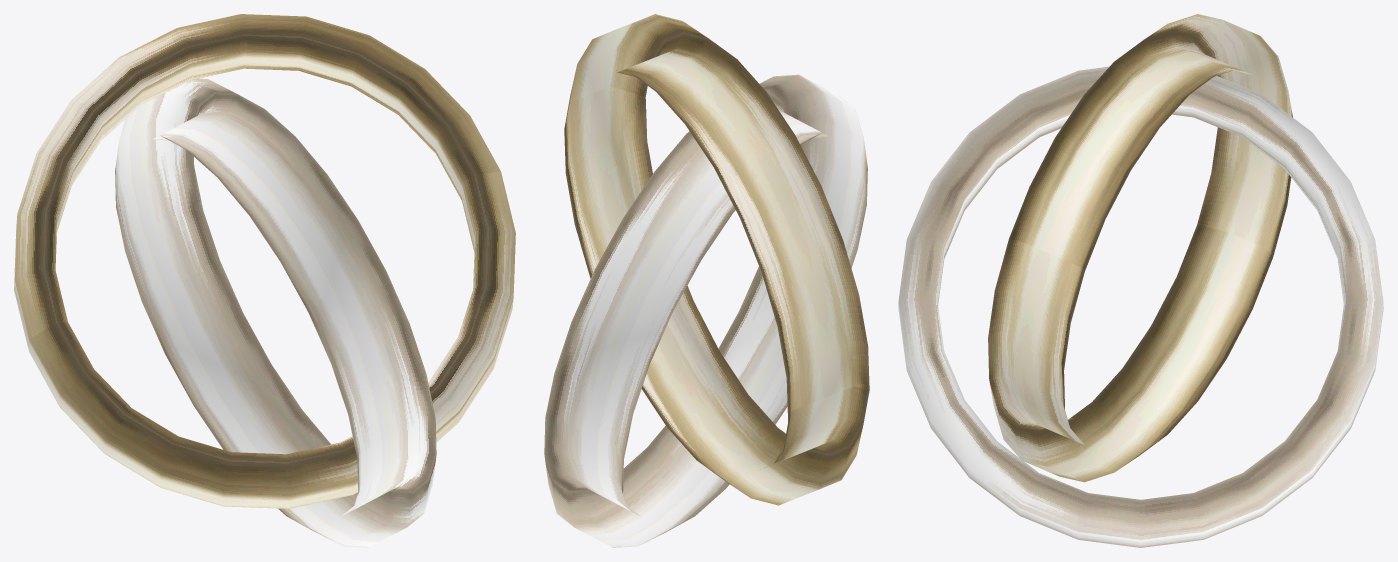
Rendered from ps2_save-icons_memoriesoff-sorekaraagain-revised.glb.
3 renders of one model, left to right at view 1: azimuth 30°, elevation 25°; view 2: azimuth 150°, elevation 25°; view 3: azimuth 270°, elevation 25°, orthographic. The views are drawn at different scales.
Visible parts, largest first — view 1: static.ico; view 2: static.ico; view 3: static.ico.
Part boxes in pixels (<box>): static.ico: <box>14,14,515,547</box>; static.ico: <box>544,14,869,547</box>; static.ico: <box>898,14,1383,547</box>.
Bounding box in the file's own units: 3.57 × 4.38 × 3.94.
Materials: 1 (1 with a texture image).
